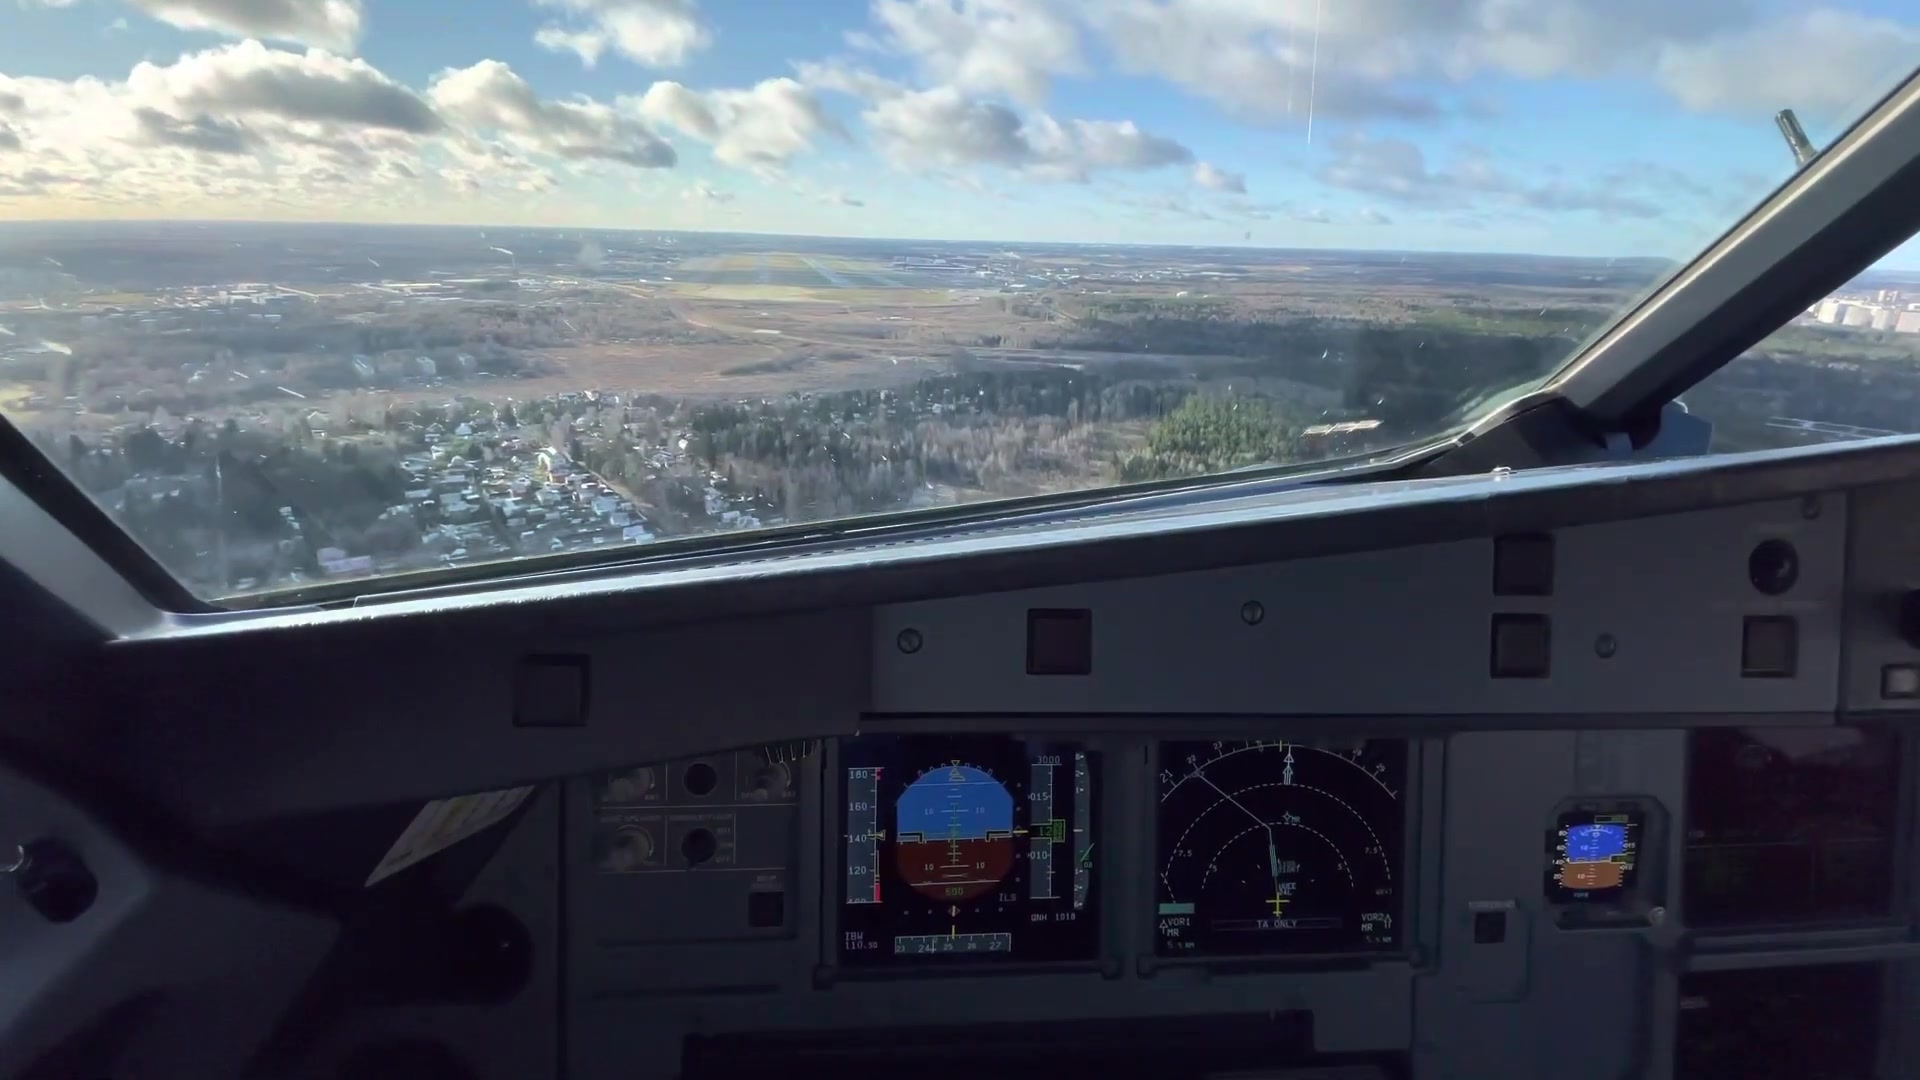runway: (800, 252, 853, 287), (754, 253, 773, 284)
